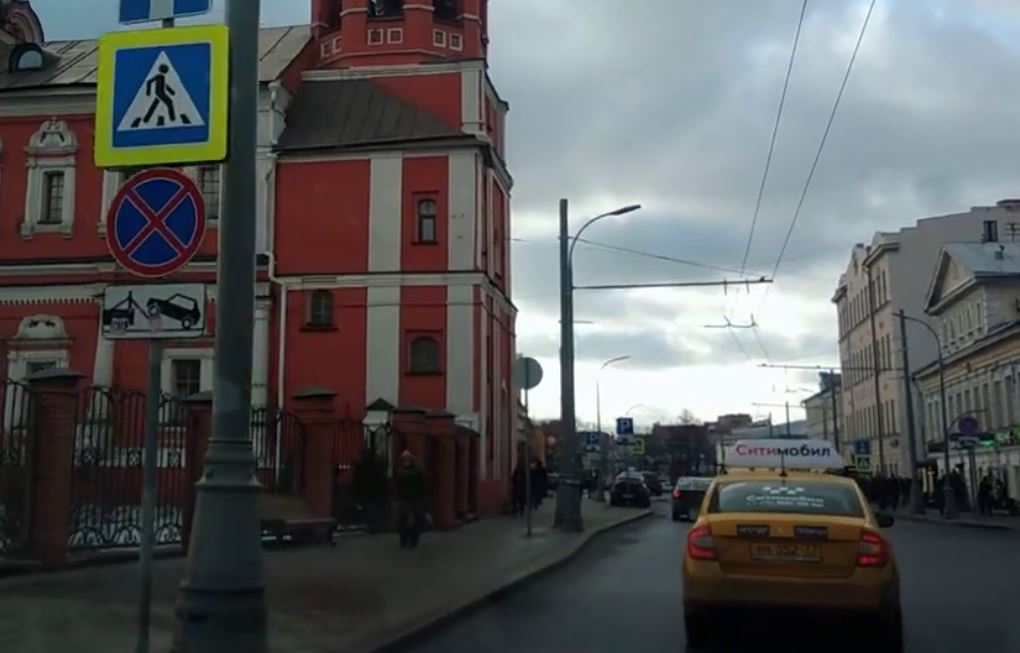Yaya Gecidi: (109, 36, 211, 143)
